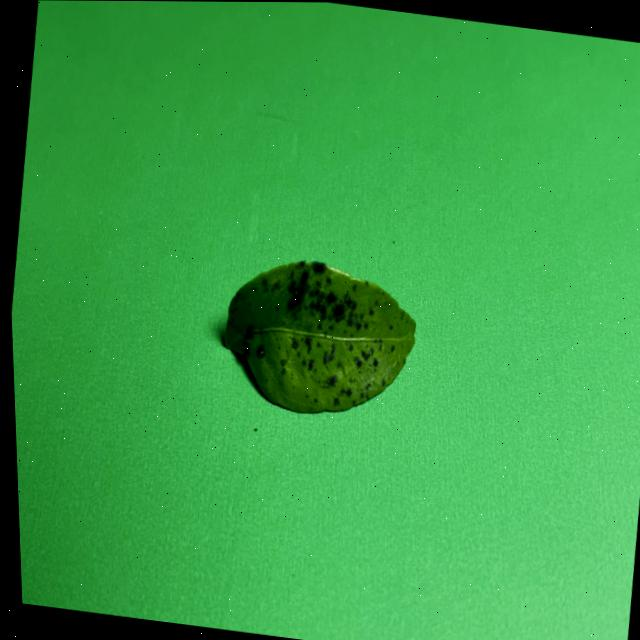sooty_mold: (223, 260, 414, 411)
